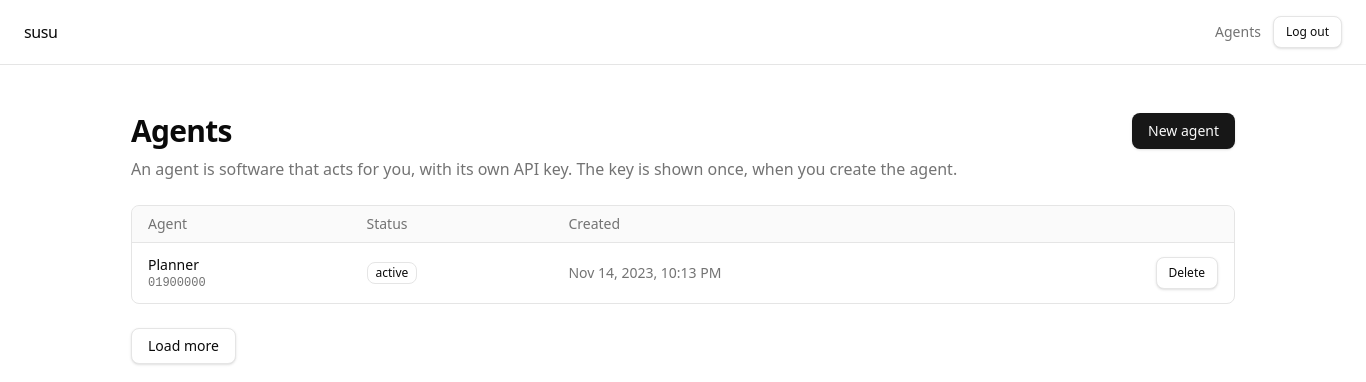
Test: list › Load more appends the next page using the cursor
Check: the text "Planner" is shown, box [148,255,199,274]
Click the button "Load more".
click(183, 346)  # box [131,328,236,364]
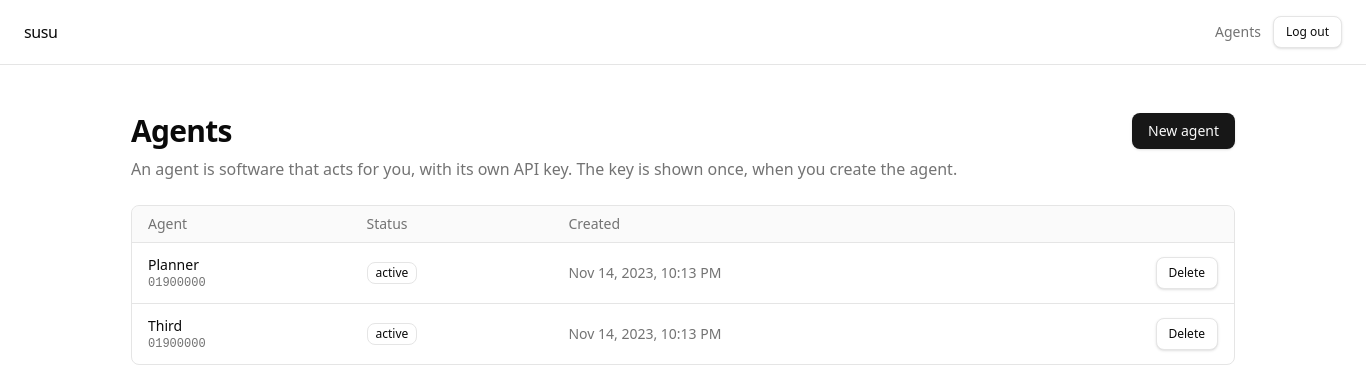
Check: the text "Planner" is shown, box [148,255,199,274]
Check: the text "Third" is shown, box [148,316,182,335]
Check: the button "Load more" is gone
